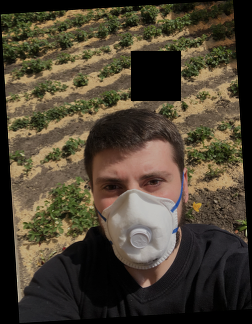with_mask: (95, 156, 180, 270)
